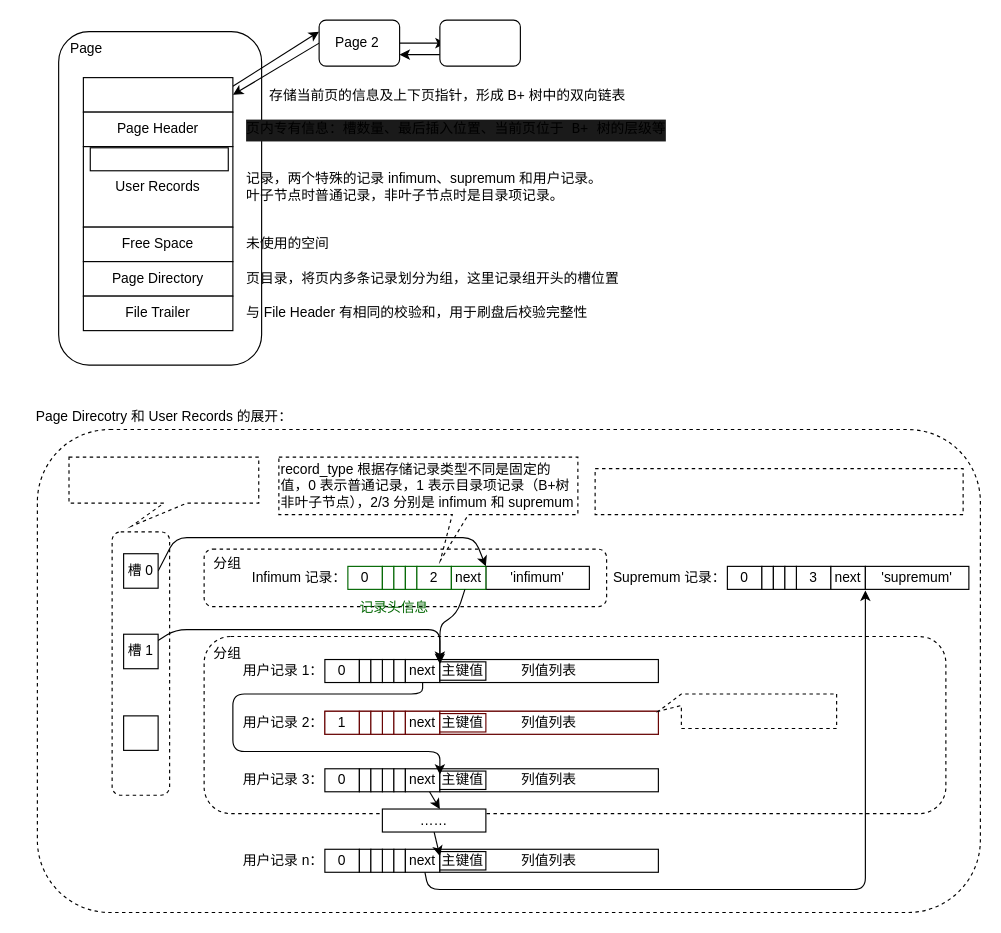
This 1001x933 diagram has some shape labels left out. Each missing label, with the centre of its shape:
"File Header" belongs at point 157,94.
"infimum + supremum" belongs at point 158,159.
"infimum 记录代表最小（主键值）用户记录，为链表起点 supremum 记录代表最大用户记录，为链表终点" belongs at point 778,491.
"Page 3" belongs at point 479,42.
"Page Directory，页目录。 槽，用于快速找到分组的位置" belongs at point 163,491.
"删除的会加入 free 链表" belongs at point 747,711.
"槽 k" belongs at point 140,732.
